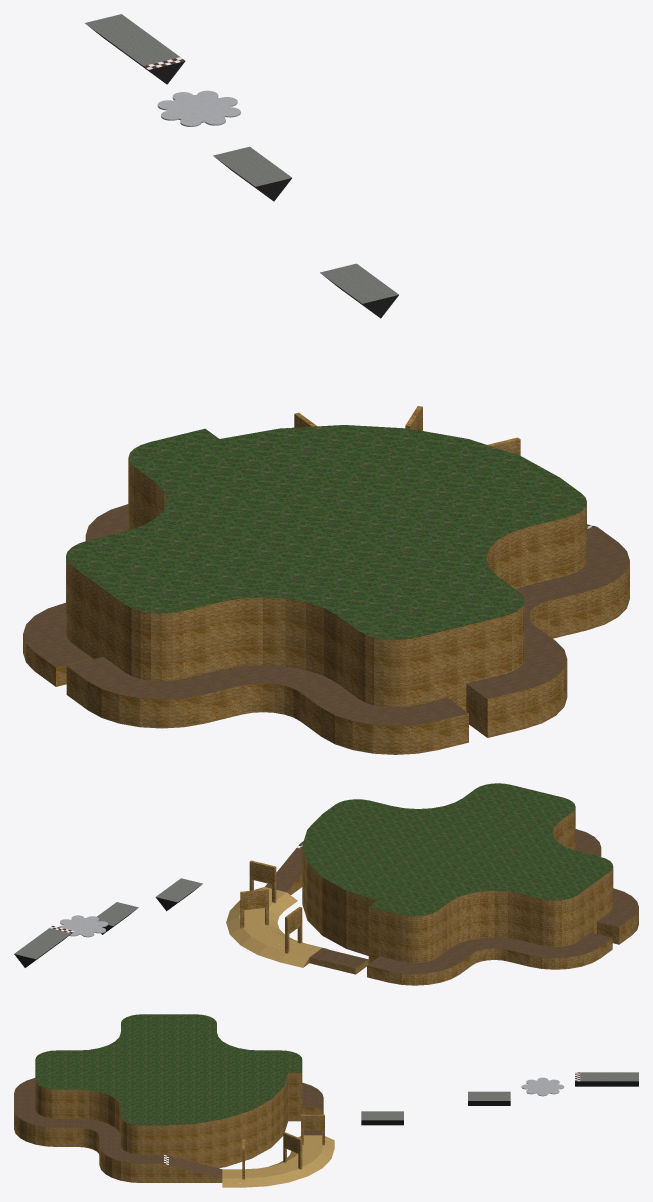
The picture shows the model from 3 angles, top to bottom: view 1: azimuth 30°, elevation 25°; view 2: azimuth 150°, elevation 25°; view 3: azimuth 270°, elevation 25°; orthographic projection. The views are drawn at different scales.
Parts seen in each view (by area): view 1: course-SKP--sunset_grass_fall, course-SKP--sunset_wall_rock, course-SKP--sunset_road_dirt, course-SKP--sunset_road_metal, course-SKP--sunset_cloud, course-SKP--sunset_wall_metal; view 2: course-SKP--sunset_grass_fall, course-SKP--sunset_wall_rock, course-SKP--sunset_road_dirt, course-SKP--sunset_road_beach, course-SKP--sunset_road_metal, course-SKP--sunset_cloud, course-SKP--sunset_wall_metal; view 3: course-SKP--sunset_grass_fall, course-SKP--sunset_wall_rock, course-SKP--sunset_road_dirt, course-SKP--sunset_road_beach, course-SKP--sunset_road_metal, course-SKP--sunset_wall_metal, course-SKP--sunset_cloud.
Boxes of the visible parts, bbox=[...] form: course-SKP--sunset_grass_fall: bbox=[66, 425, 586, 639]; course-SKP--sunset_wall_rock: bbox=[23, 406, 629, 754]; course-SKP--sunset_road_dirt: bbox=[23, 504, 629, 725]; course-SKP--sunset_road_metal: bbox=[85, 14, 398, 303]; course-SKP--sunset_cloud: bbox=[157, 90, 240, 126]; course-SKP--sunset_wall_metal: bbox=[86, 24, 398, 318]; course-SKP--sunset_grass_fall: bbox=[302, 783, 613, 916]; course-SKP--sunset_wall_rock: bbox=[240, 807, 638, 985]; course-SKP--sunset_road_dirt: bbox=[265, 829, 638, 973]; course-SKP--sunset_road_beach: bbox=[226, 887, 325, 967]; course-SKP--sunset_road_metal: bbox=[14, 878, 202, 959]; course-SKP--sunset_cloud: bbox=[58, 915, 107, 937]; course-SKP--sunset_wall_metal: bbox=[14, 886, 199, 967]; course-SKP--sunset_grass_fall: bbox=[35, 1014, 302, 1125]; course-SKP--sunset_wall_rock: bbox=[14, 1073, 324, 1182]; course-SKP--sunset_road_dirt: bbox=[14, 1078, 323, 1177]; course-SKP--sunset_road_beach: bbox=[222, 1135, 334, 1187]; course-SKP--sunset_road_metal: bbox=[361, 1072, 638, 1120]; course-SKP--sunset_wall_metal: bbox=[361, 1081, 638, 1125]; course-SKP--sunset_cloud: bbox=[521, 1077, 564, 1096].
Size of what is drawn, in the model's own units: 59330 by 21000 by 117000.
9 materials, 9 textured.
